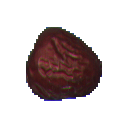gd: (17, 16, 112, 109)
